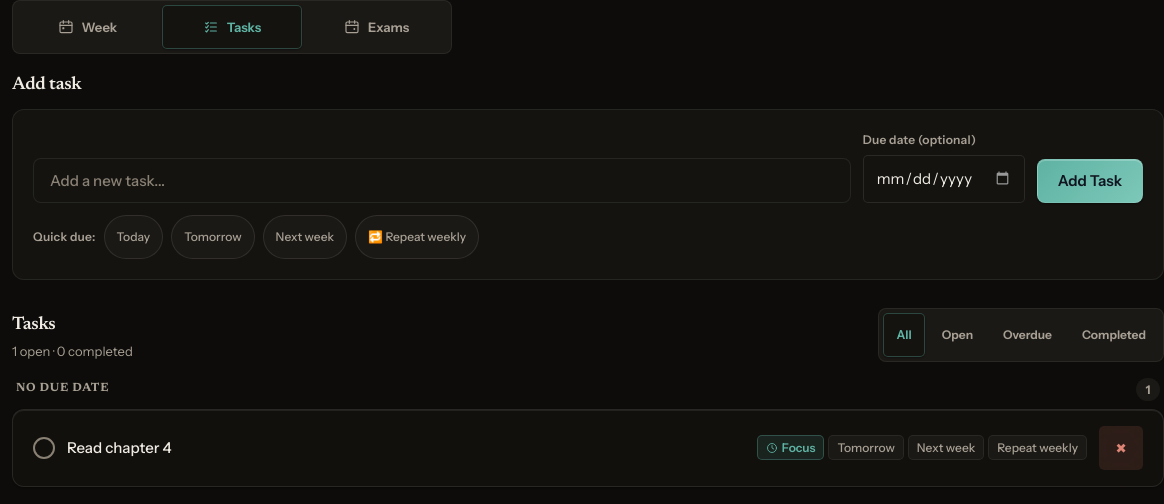
Test: TasksView › abandons a rename on Escape
The image size is (1164, 504).
Step 1. Double-click the text "Read chapter 4" → x=119, y=447, box left=67, top=438, right=172, bottom=457
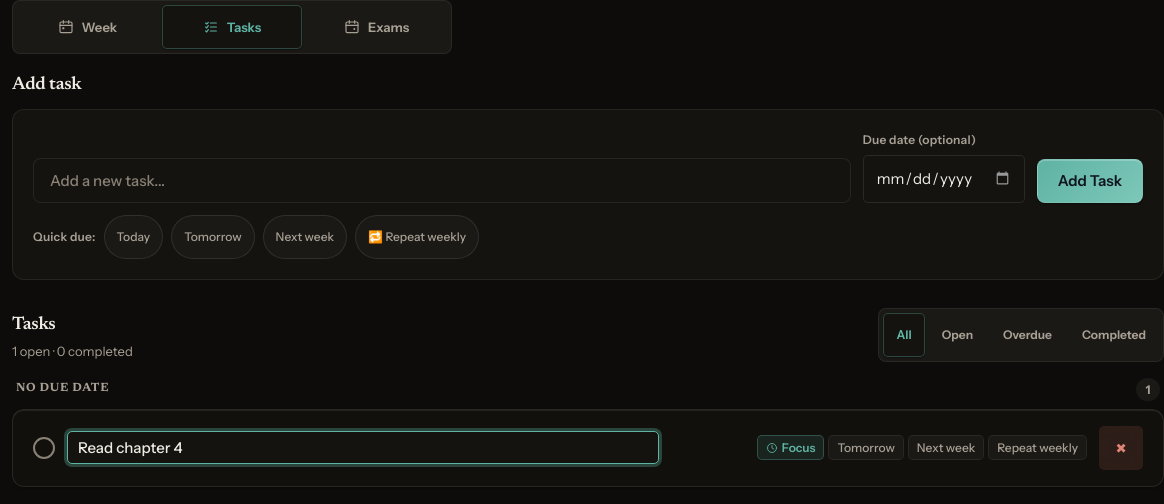
Step 2. Type " and 5" into the field named "Edit task text" → x=363, y=448, box left=67, top=431, right=659, bottom=464
Then press Escape
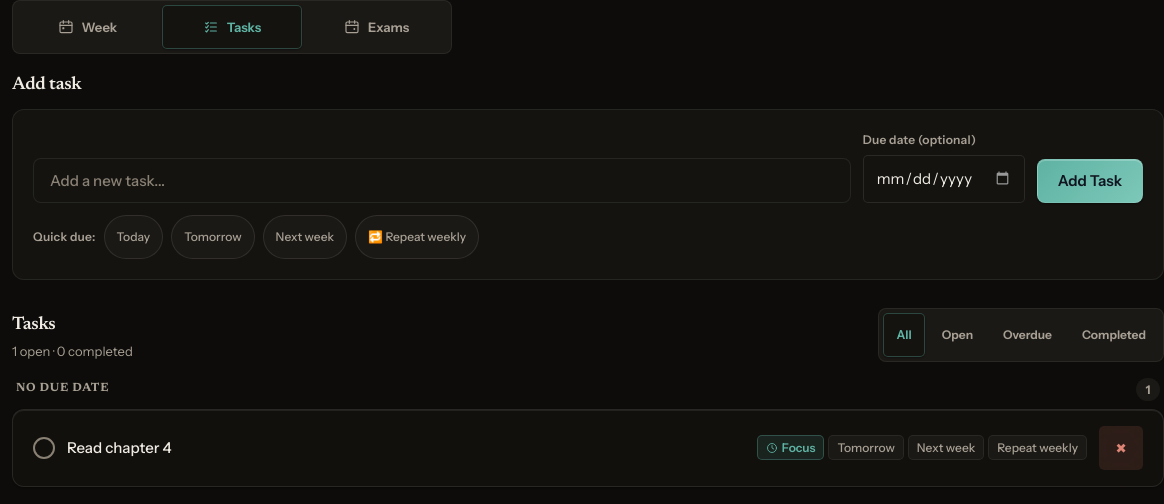
Expected: the text "Read chapter 4" is shown, left=67, top=438, right=172, bottom=457
